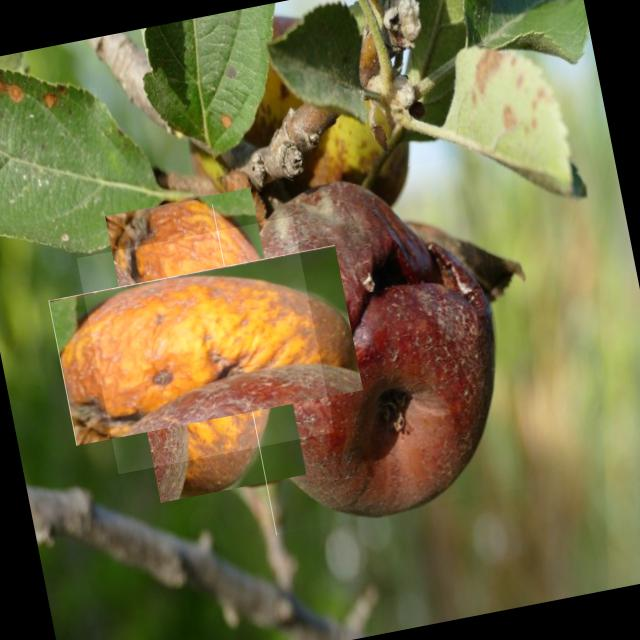Rotten Apple: (212, 157, 521, 536), (77, 216, 336, 475)
